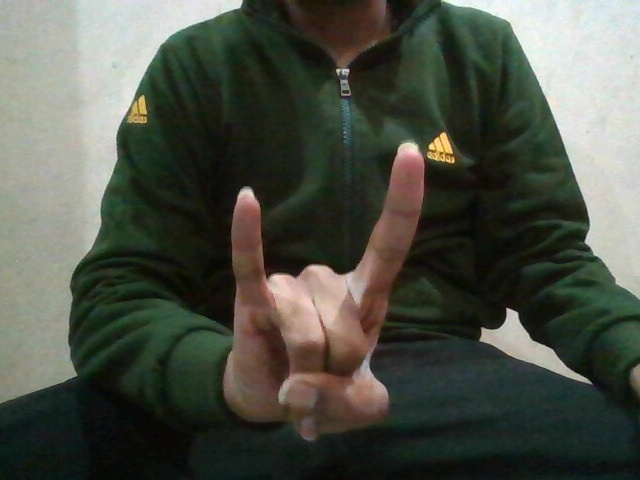U: (214, 162, 424, 440)
